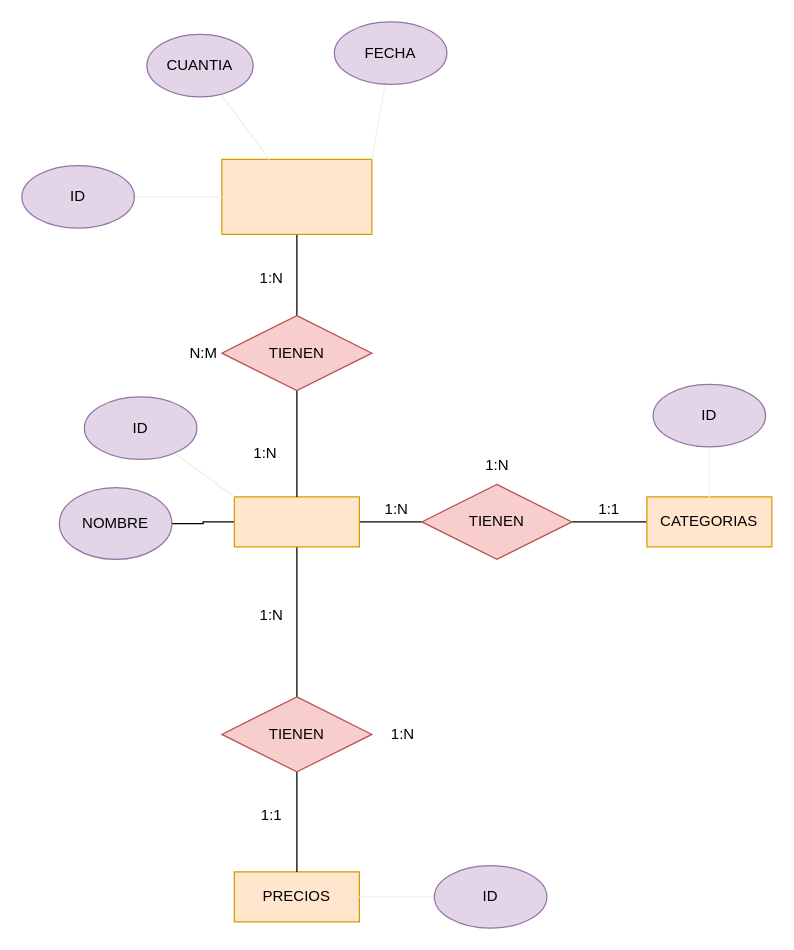
The diagram is 794 pixels wide and 950 high, and some of its shapes have lost their labels. Here are the shapes that lost their labels. From the top down, the centre of each, then its label:
(296,196): VENTAS
(296,521): PRODUCTOS
